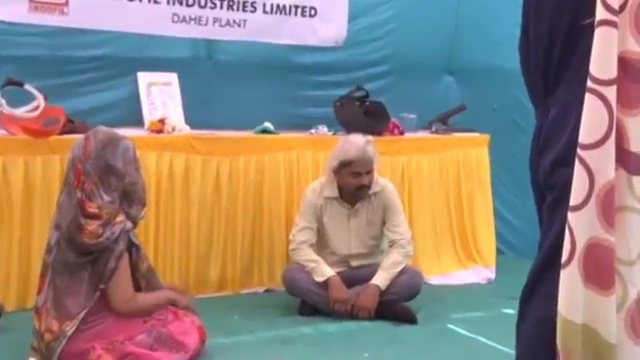helmet_off: (64, 133, 143, 213), (333, 138, 375, 202)
person: (26, 125, 206, 360), (514, 1, 597, 358), (278, 132, 424, 325)
